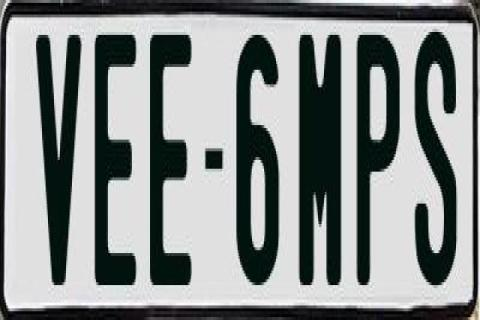0: (234, 32, 276, 294)
E: (92, 29, 140, 297), (148, 32, 190, 296)
M: (296, 35, 338, 294)
P: (356, 27, 400, 286)
S: (413, 29, 455, 282)
V: (32, 29, 78, 297)
